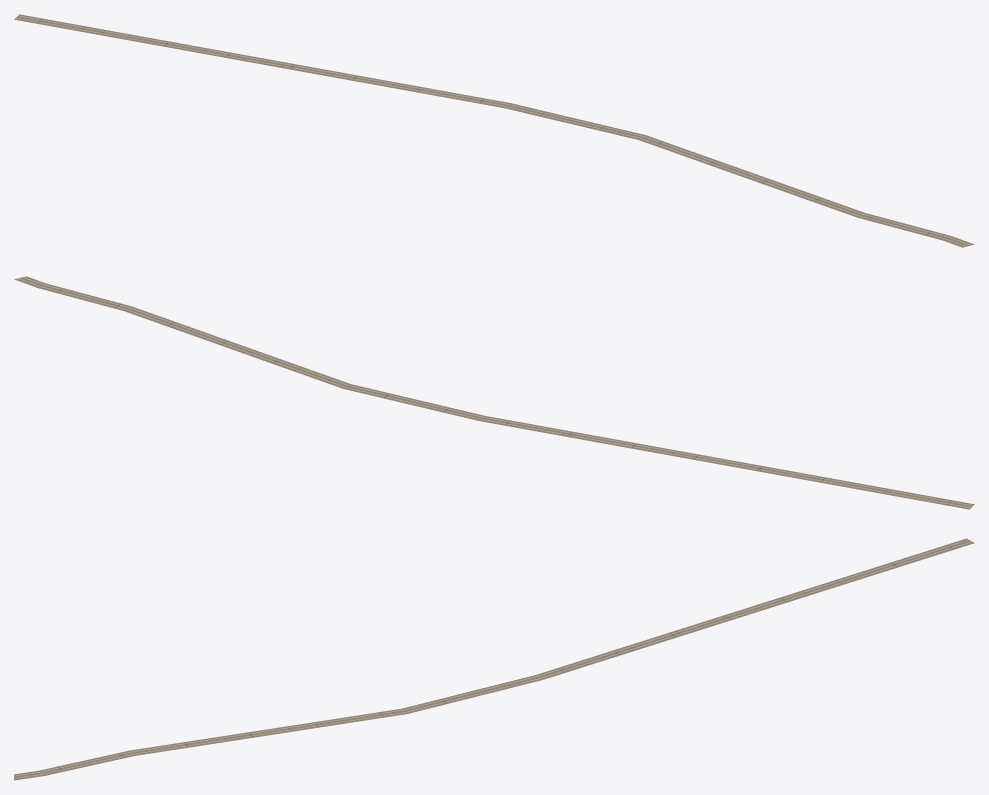
3 renders of one model, top to bottom at view 1: azimuth 30°, elevation 25°; view 2: azimuth 210°, elevation 25°; view 3: azimuth 270°, elevation 25°, orthographic.
Visible parts, largest first — view 1: rail; view 2: rail; view 3: rail.
Boxes of the visible parts, left/top/right/bottom form: rail: left=14, top=14, right=974, bottom=247; rail: left=14, top=276, right=974, bottom=509; rail: left=14, top=538, right=974, bottom=780.
Bounding box in the file's own units: 149 × 0.04 × 249.
